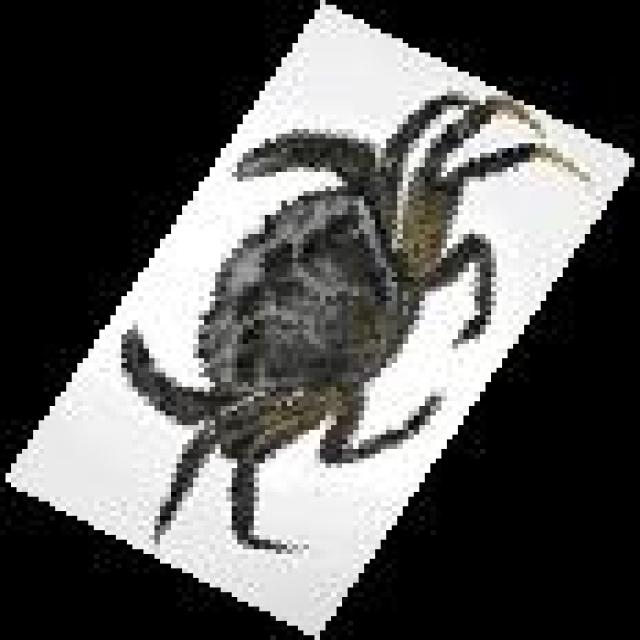European Green crab: (121, 91, 579, 549)
